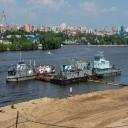tugboat: (90, 51, 123, 81)
